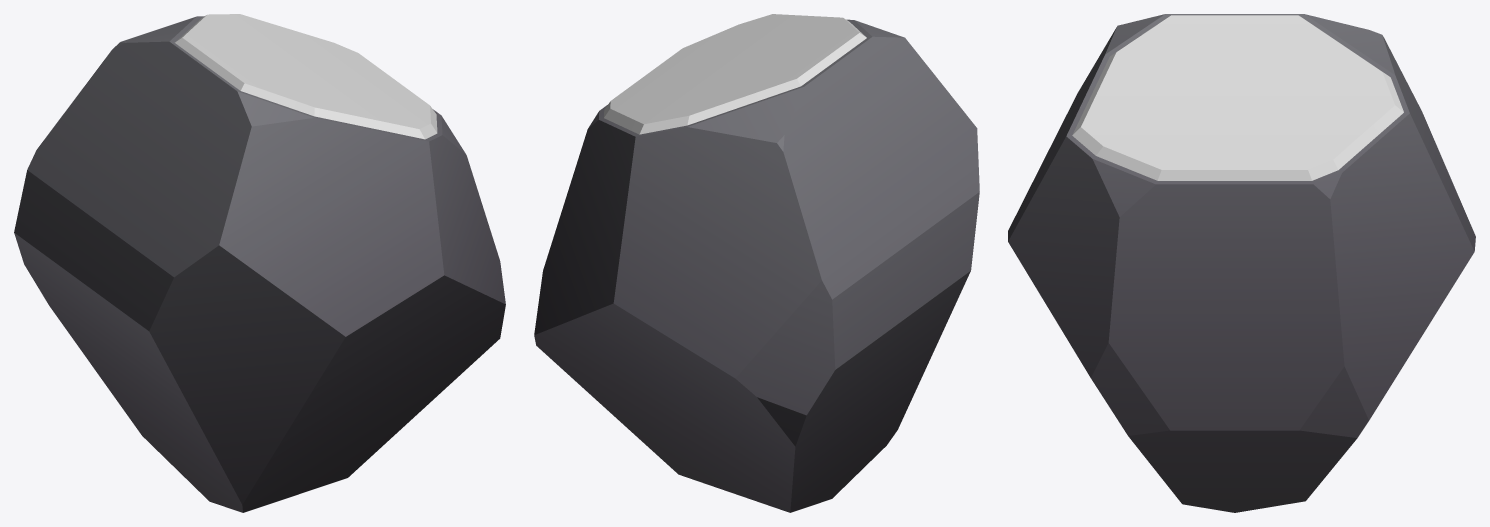
The model's file is Rock_17.glb.
The picture shows the model from 3 angles, left to right: view 1: azimuth 30°, elevation 25°; view 2: azimuth 150°, elevation 25°; view 3: azimuth 270°, elevation 25°; orthographic projection. The views are drawn at different scales.
Parts seen in each view (by area): view 1: Rock_17_LOD0; view 2: Rock_17_LOD0; view 3: Rock_17_LOD0.
Part boxes in pixels (x1,y1,x2,y2): Rock_17_LOD0: (14,14,505,512); Rock_17_LOD0: (534,14,979,512); Rock_17_LOD0: (1008,14,1475,512).
Size of what is drawn, in the model's own units: 0.9708 by 1.18 by 1.11.
Materials: 1 (1 with a texture image).
